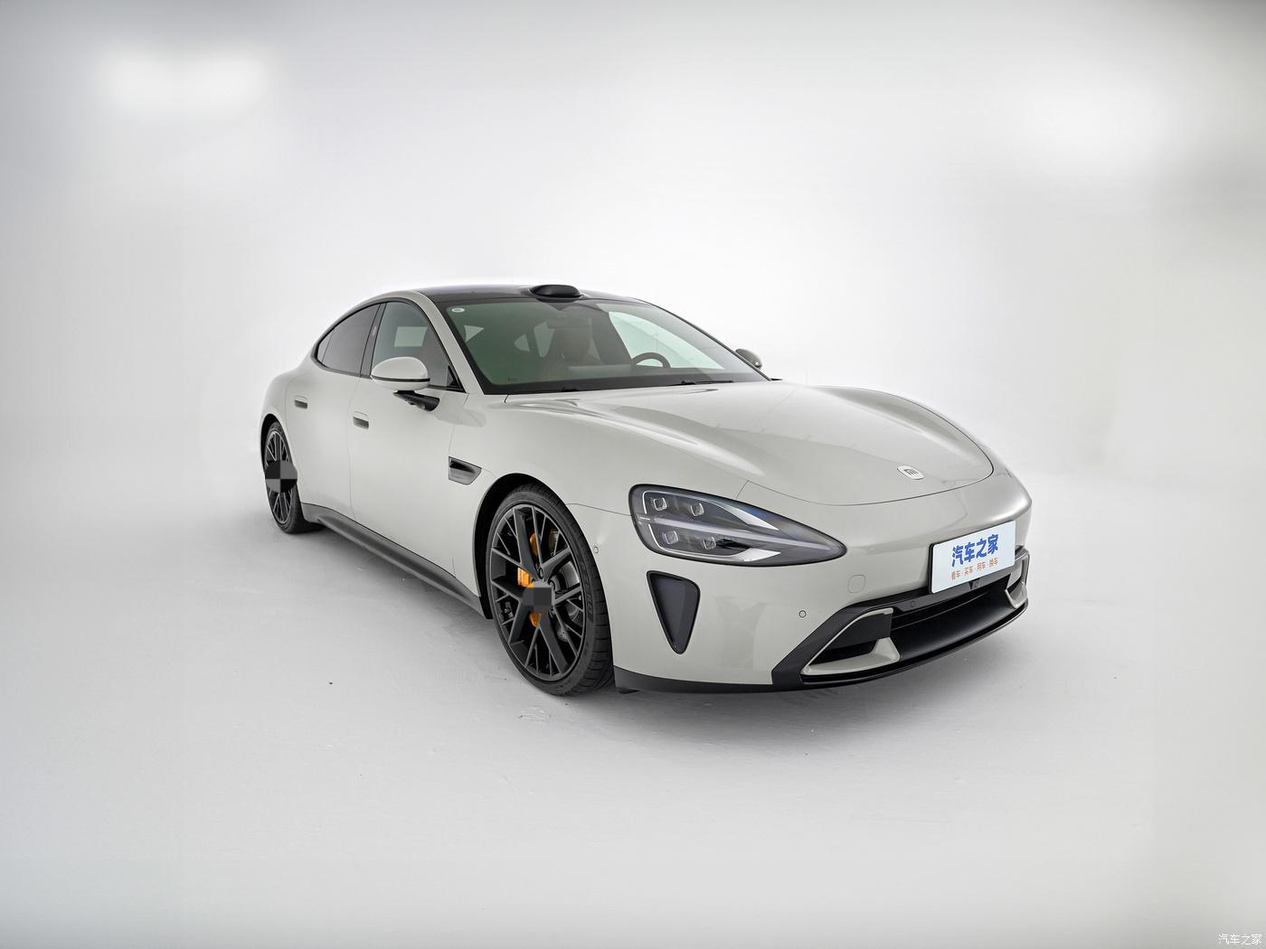XIAOMI: (897, 465, 923, 479)
